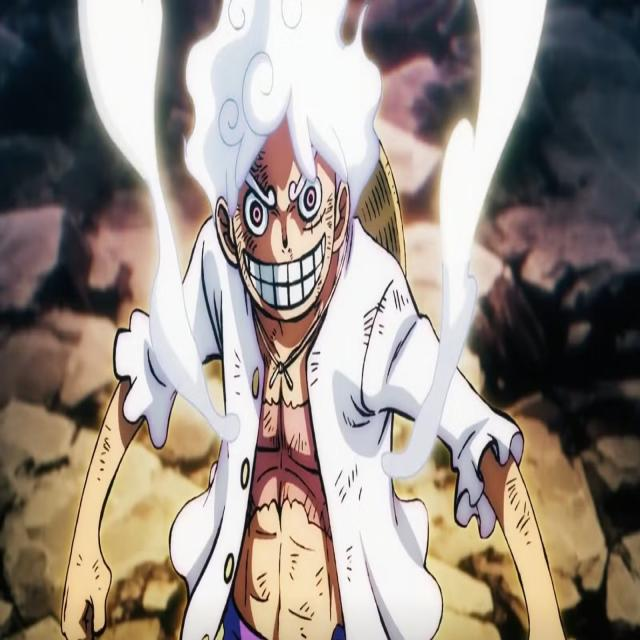luffy: (24, 4, 640, 640)
